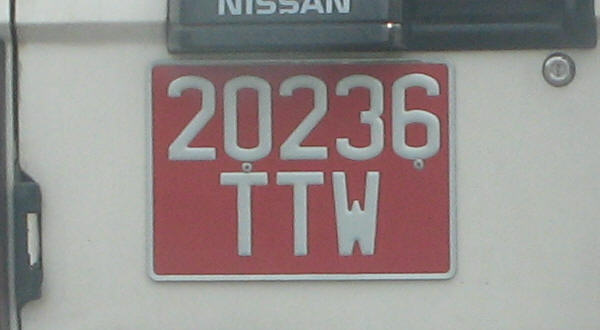license_plate: (145, 59, 457, 281)
